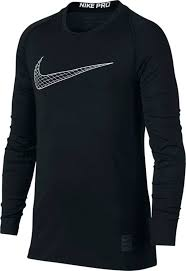nike: (20, 45, 135, 107)
